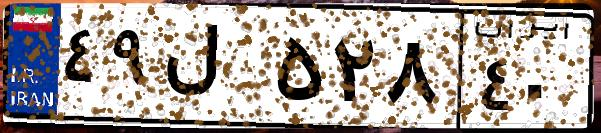0: (525, 38, 570, 115)
2: (330, 28, 385, 110)
4: (57, 26, 110, 100), (475, 38, 525, 113)
5: (270, 28, 330, 110)
8: (385, 28, 445, 110)
9: (110, 28, 158, 98)
ل: (158, 20, 270, 120)
